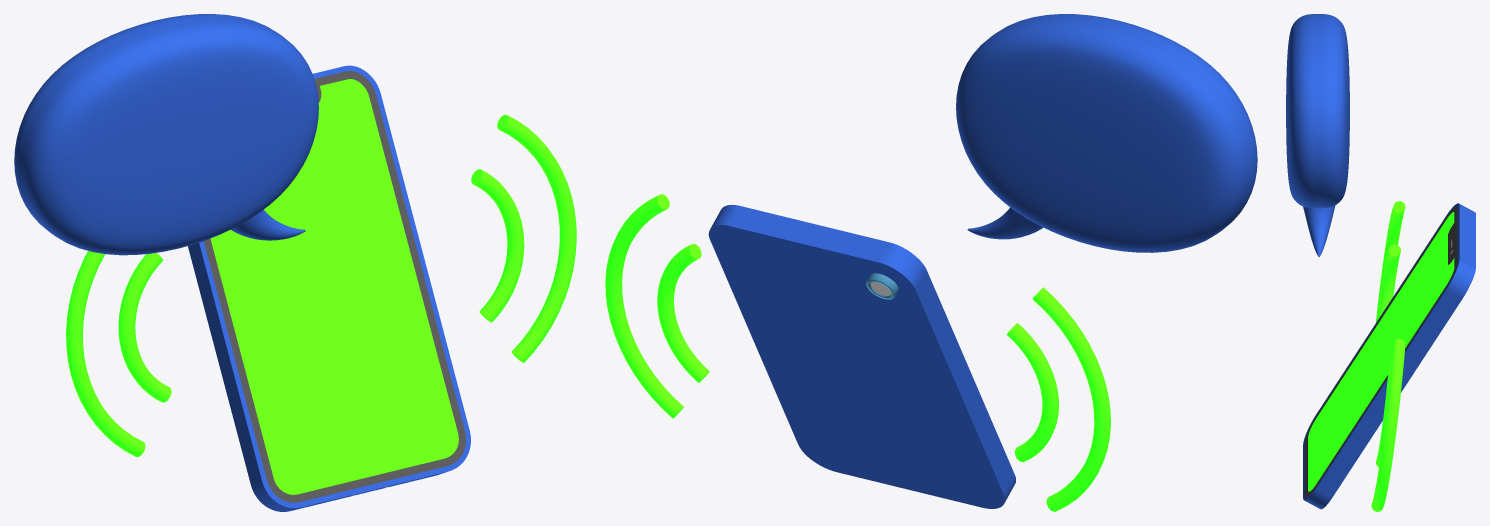
Rendered from mail.glb.
The picture shows the model from 3 angles, left to right: view 1: azimuth 30°, elevation 25°; view 2: azimuth 150°, elevation 25°; view 3: azimuth 270°, elevation 25°; orthographic projection. The views are drawn at different scales.
Parts seen in each view (by area): view 1: Cube.012_8, Plane.005_12, Circle_0, BezierCurve.002_9; view 2: Plane.005_12, Cube.012_8, Circle_0, BezierCurve.002_9; view 3: Cube.012_8, Plane.005_12, Circle_0, BezierCurve.002_9.
Part boxes in pixels (x1,y1,x2,y2): Cube.012_8: (188, 65, 470, 511); Plane.005_12: (14, 14, 318, 255); Circle_0: (66, 114, 576, 456); BezierCurve.002_9: (231, 209, 305, 240); Plane.005_12: (956, 14, 1257, 252); Cube.012_8: (708, 204, 1015, 508); Circle_0: (605, 194, 1110, 511); BezierCurve.002_9: (967, 207, 1042, 239); Cube.012_8: (1303, 203, 1475, 509); Plane.005_12: (1286, 14, 1349, 208); Circle_0: (1371, 201, 1405, 511); BezierCurve.002_9: (1303, 205, 1335, 256).
Size of the model in its own units: 8.17 by 6.7 by 3.05.
